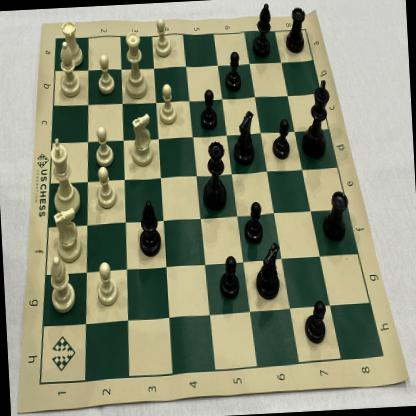bishop: (46, 254, 80, 316), (135, 198, 164, 261), (54, 37, 82, 100), (249, 2, 274, 61)
king: (46, 132, 82, 219), (298, 74, 335, 158)
knight: (252, 234, 284, 304), (229, 107, 258, 168), (53, 205, 82, 265), (128, 111, 154, 168)
pawn: (91, 259, 120, 308), (300, 297, 328, 346), (216, 252, 240, 303), (93, 165, 119, 212), (240, 196, 264, 245), (92, 124, 116, 170), (221, 47, 244, 95), (151, 14, 174, 61), (94, 50, 117, 97), (269, 116, 292, 162), (197, 86, 219, 132), (156, 82, 178, 127)
queen: (198, 134, 228, 214), (119, 27, 150, 102)
rook: (320, 188, 352, 249), (58, 16, 85, 70), (282, 3, 308, 57)
